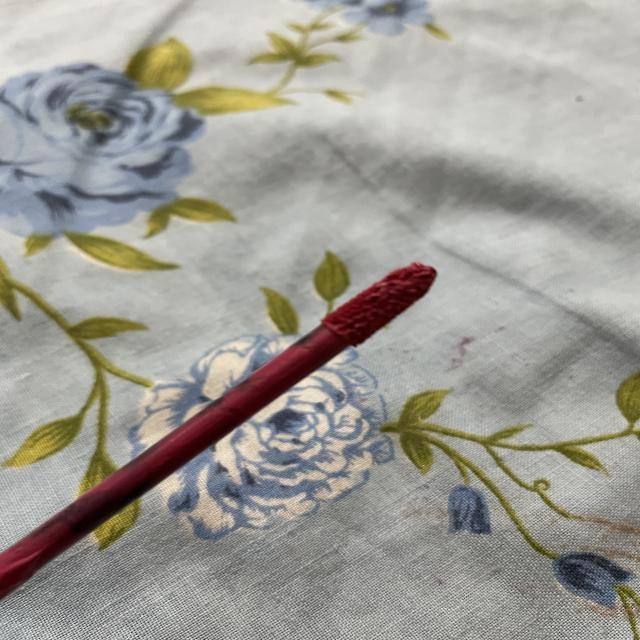lip gloss: (0, 221, 475, 640)
